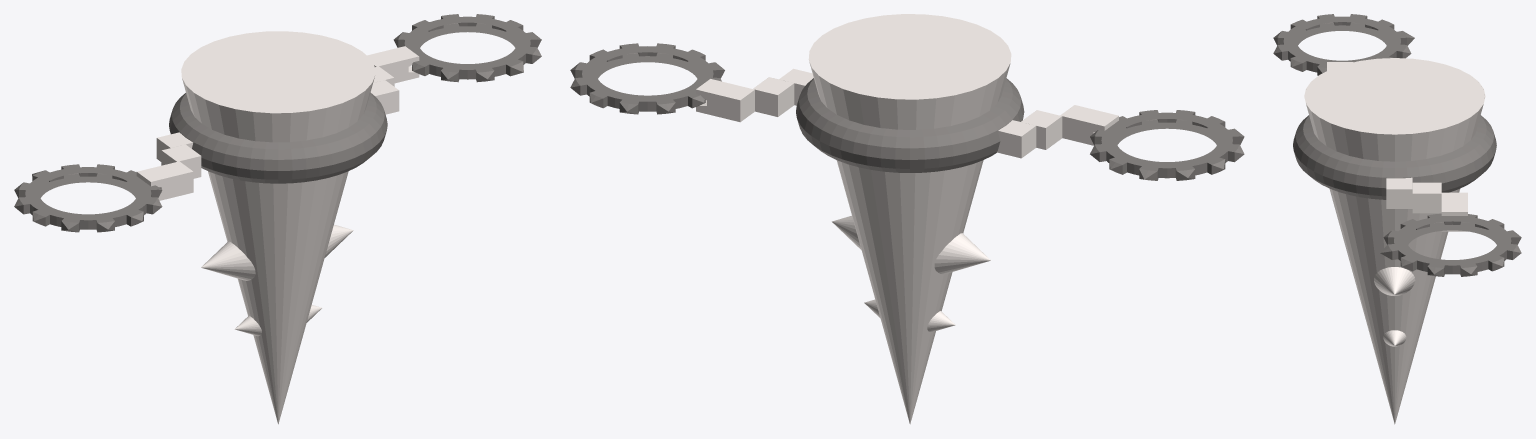
The model's file is bossbody.obj.
3 renders of one model, left to right at view 1: azimuth 30°, elevation 25°; view 2: azimuth 150°, elevation 25°; view 3: azimuth 270°, elevation 25°, orthographic. The views are drawn at different scales.
Parts seen in each view (by area): view 1: 円錐.001; view 2: 円錐.001; view 3: 円錐.001.
Part boxes in pixels (x1=…): 円錐.001: x1=14, y1=14, x2=541, y2=424; 円錐.001: x1=570, y1=14, x2=1244, y2=424; 円錐.001: x1=1273, y1=14, x2=1521, y2=424.
Size of the model in its own units: 6.73 by 4 by 2.74.
Materials: 1 (1 with a texture image).
